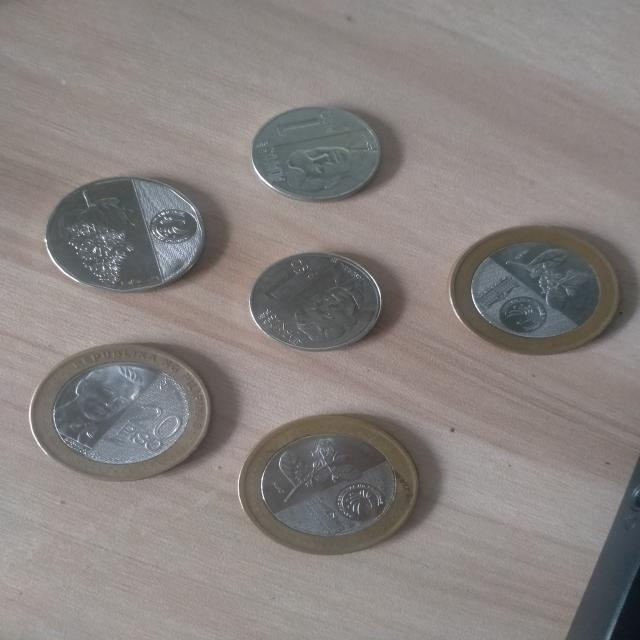10_New_Back: (56, 185, 144, 288)
1_New_Front: (257, 258, 315, 308), (267, 111, 347, 145)
20_New_Back: (506, 242, 599, 312)
